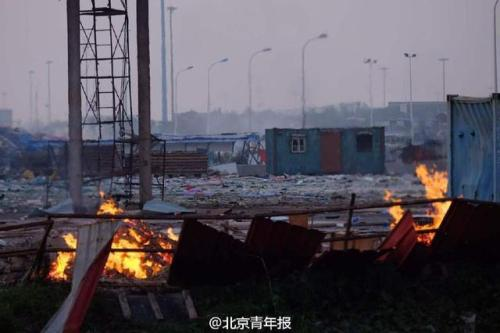fire: (42, 193, 175, 286)
